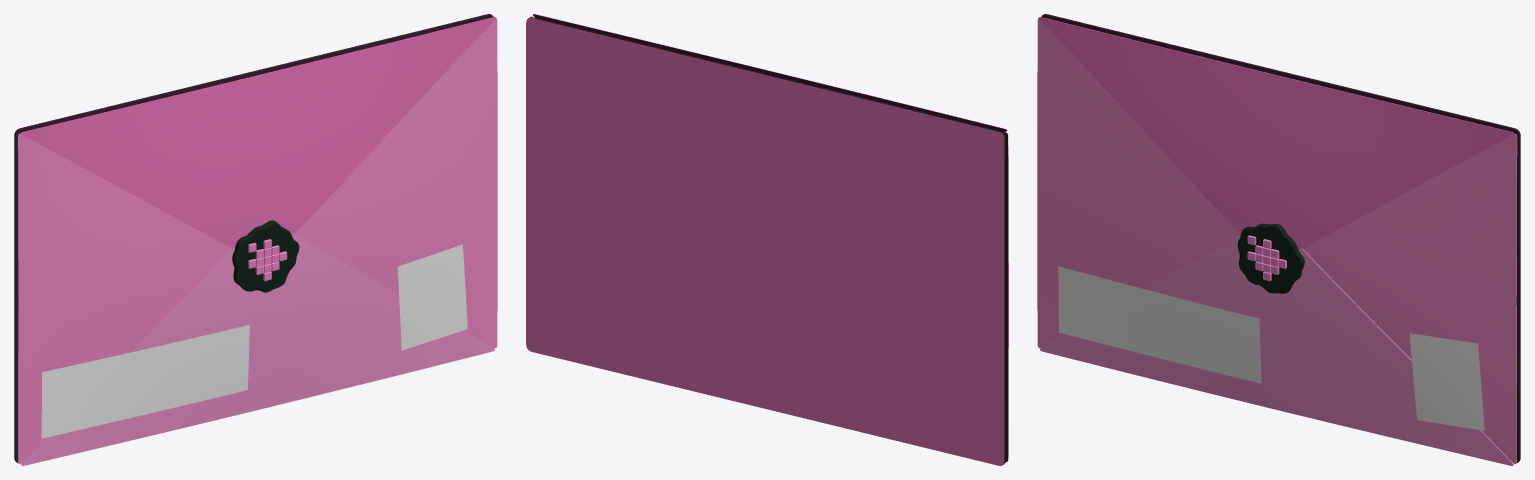
The model's file is envelope.glb.
The picture shows the model from 3 angles, left to right: view 1: azimuth 30°, elevation 25°; view 2: azimuth 150°, elevation 25°; view 3: azimuth 330°, elevation 25°; orthographic projection.
Visible parts, largest first — view 1: FlapLeaf, SideL, Bottom, SideR, Address, Stamp, Back, Seal, SealMark; view 2: Back, FlapLeaf, SideL; view 3: FlapLeaf, SideR, SideL, Bottom, Address, Stamp, Back, Seal, SealMark.
Boxes of the visible parts, bbox=[...] form: FlapLeaf: bbox=[21, 17, 496, 248]; SideL: bbox=[17, 133, 232, 464]; Bottom: bbox=[21, 234, 494, 465]; SideR: bbox=[294, 18, 497, 348]; Address: bbox=[41, 325, 249, 438]; Stamp: bbox=[397, 244, 467, 350]; Back: bbox=[14, 14, 493, 462]; Seal: bbox=[232, 220, 299, 292]; SealMark: bbox=[248, 239, 287, 280]; Back: bbox=[526, 17, 1005, 465]; FlapLeaf: bbox=[533, 14, 1007, 132]; SideL: bbox=[1003, 132, 1008, 461]; FlapLeaf: bbox=[1038, 17, 1513, 249]; SideR: bbox=[1302, 133, 1517, 464]; SideL: bbox=[1037, 18, 1240, 348]; Bottom: bbox=[1040, 234, 1513, 465]; Address: bbox=[1058, 266, 1261, 383]; Stamp: bbox=[1409, 333, 1484, 430]; Back: bbox=[1041, 14, 1520, 462]; Seal: bbox=[1237, 223, 1304, 293]; SealMark: bbox=[1247, 235, 1286, 280].
Bounding box in the file's own units: 3 × 2 × 0.159.
